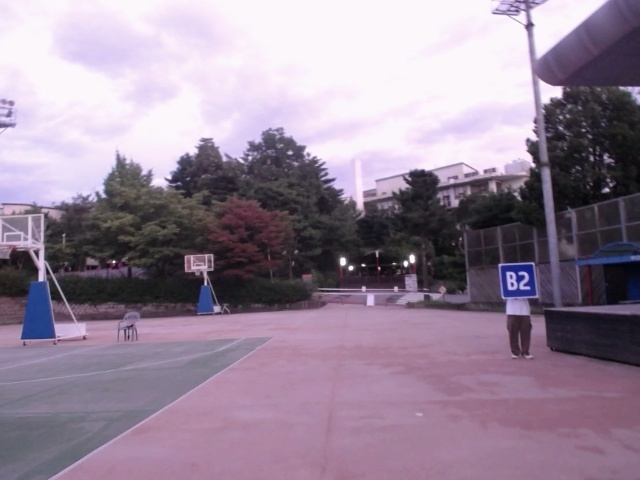delivery_b2: (499, 261, 540, 300)
